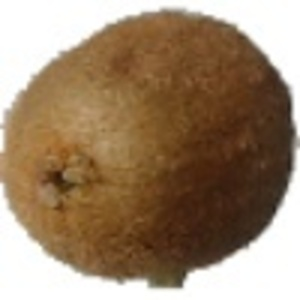kiwi: (1, 7, 300, 292)
